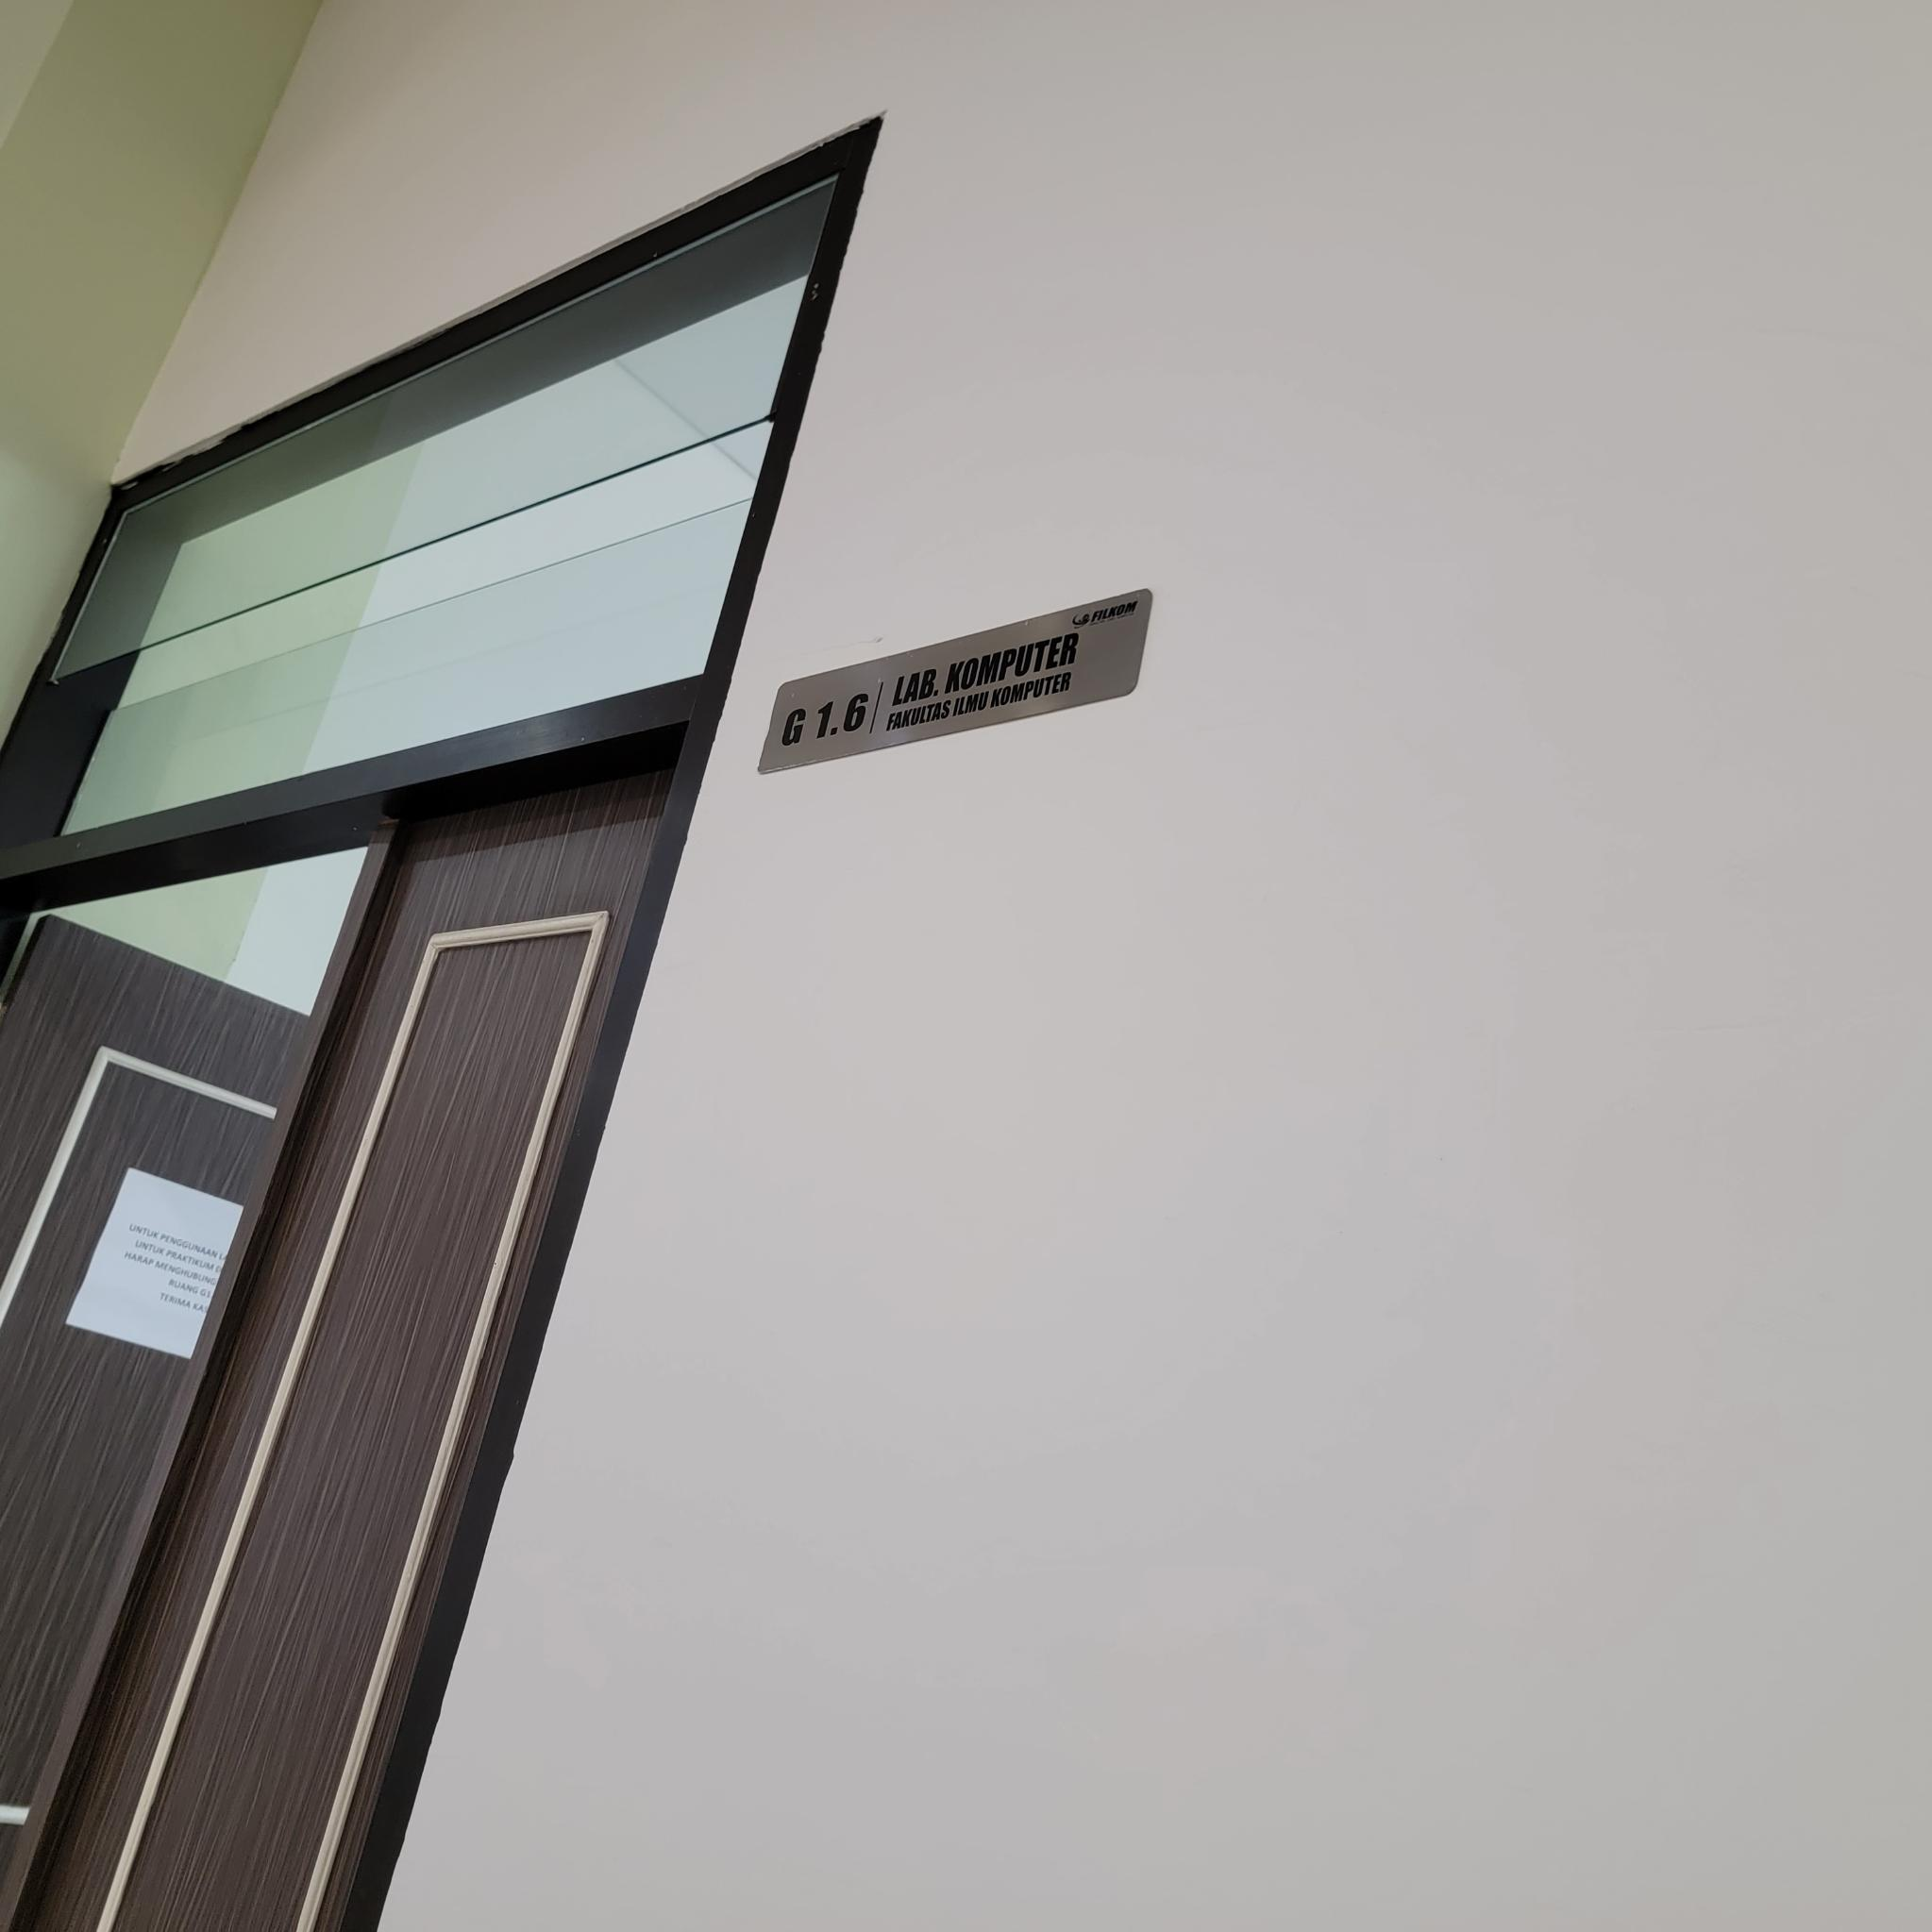plate: (757, 586, 1157, 773)
